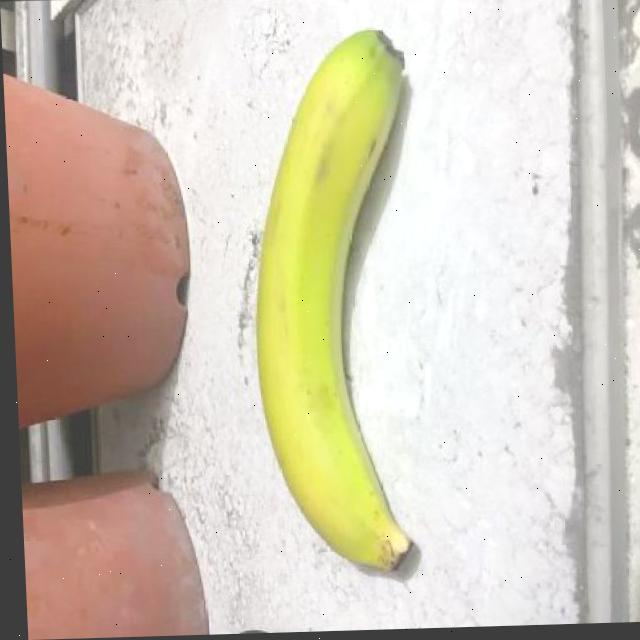banana: (235, 14, 447, 584)
